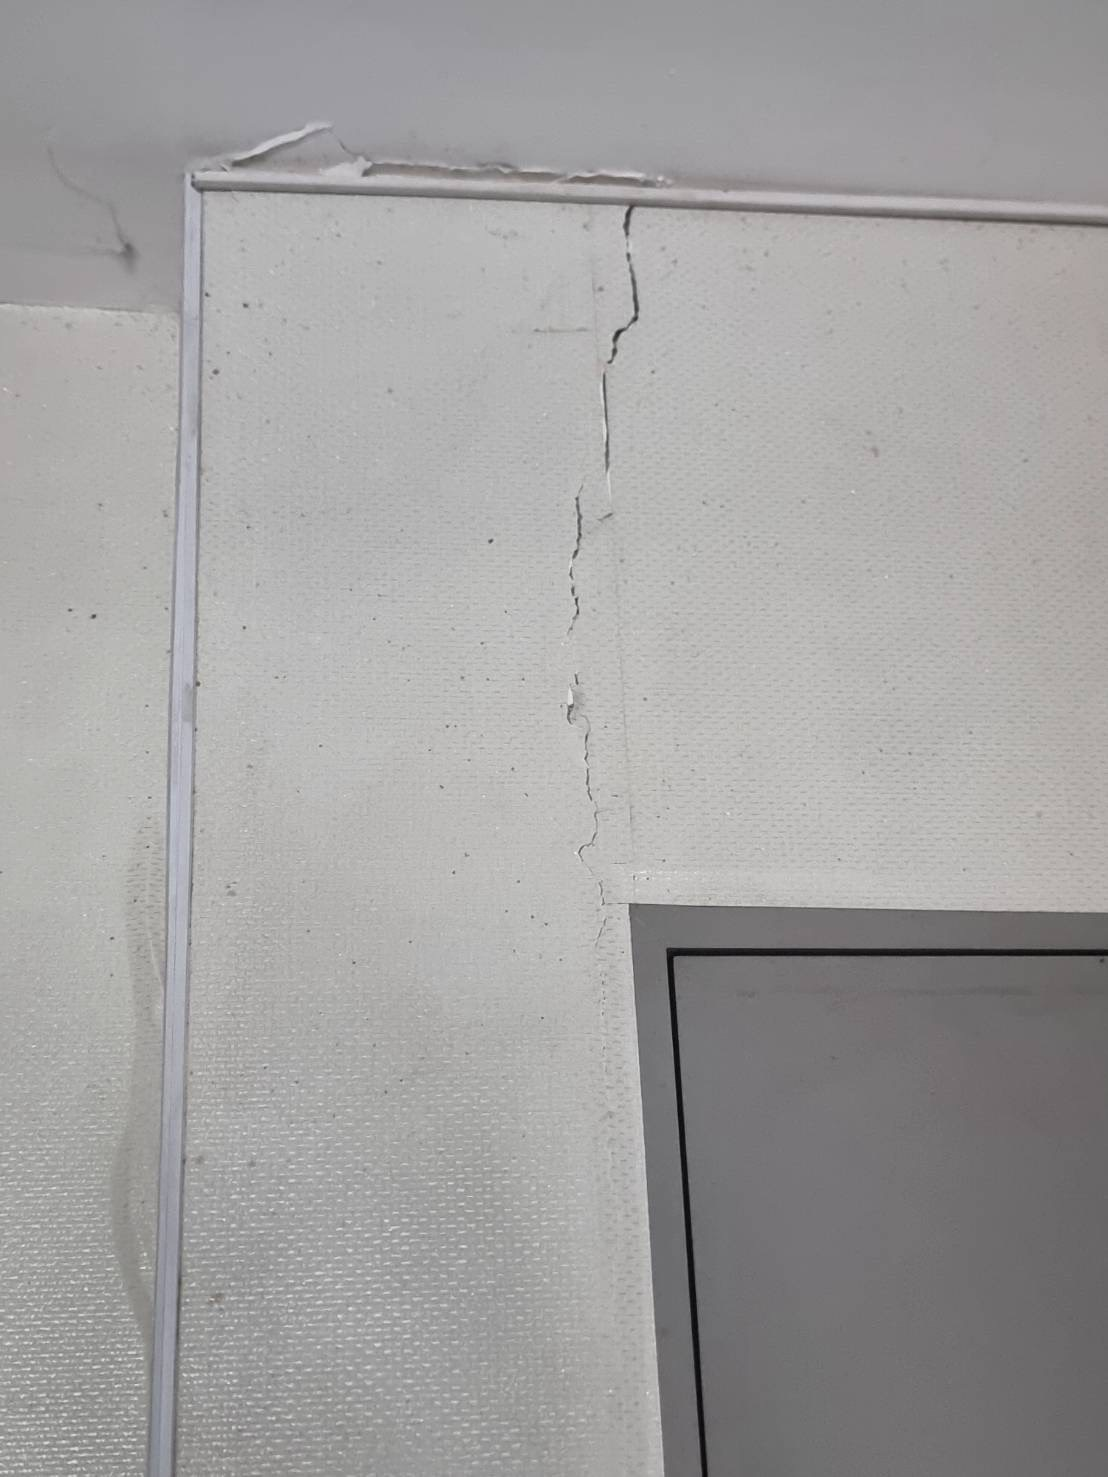Low: (530, 187, 731, 919)
